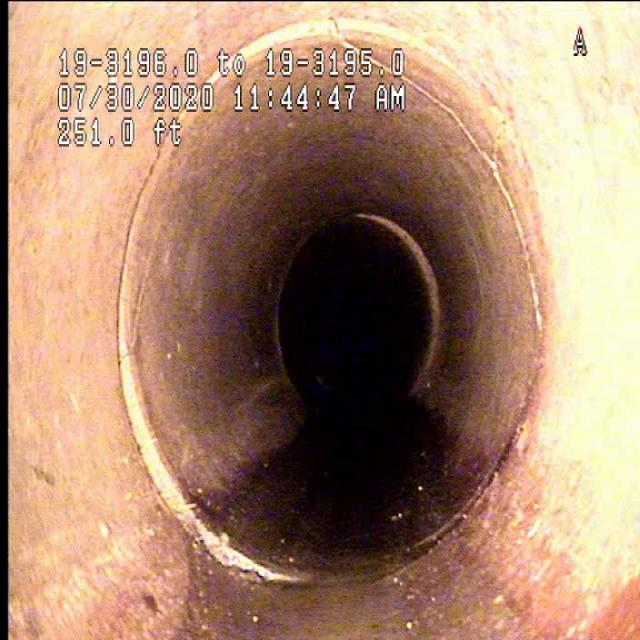Crack: (423, 54, 563, 320)
